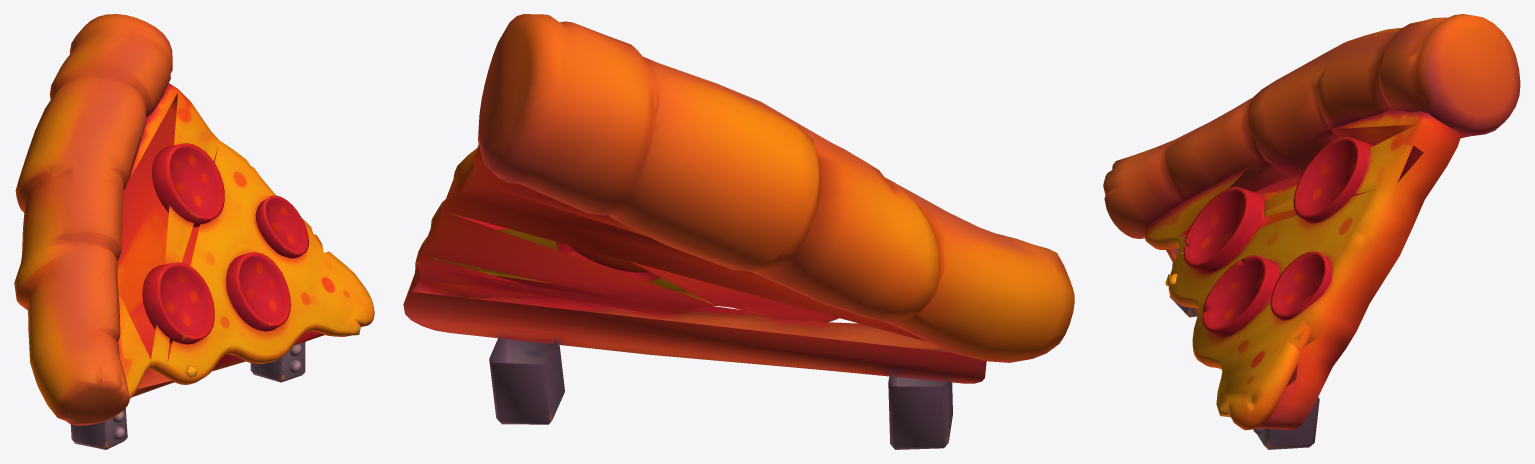
Rendered from bahia-pizza-slice.glb.
The picture shows the model from 3 angles, left to right: view 1: azimuth 30°, elevation 25°; view 2: azimuth 150°, elevation 25°; view 3: azimuth 270°, elevation 25°; orthographic projection. The views are drawn at different scales.
Visible parts, largest first — view 1: tripo_node_c8388307-ceb7-42e8-bd4d-acf7e119b7c0; view 2: tripo_node_c8388307-ceb7-42e8-bd4d-acf7e119b7c0; view 3: tripo_node_c8388307-ceb7-42e8-bd4d-acf7e119b7c0.
Boxes of the visible parts, x1,y1,x2,y2 form: tripo_node_c8388307-ceb7-42e8-bd4d-acf7e119b7c0: [14, 14, 374, 449]; tripo_node_c8388307-ceb7-42e8-bd4d-acf7e119b7c0: [403, 14, 1074, 449]; tripo_node_c8388307-ceb7-42e8-bd4d-acf7e119b7c0: [1103, 14, 1520, 449].
Bounding box in the file's own units: 0.9995 × 0.854 × 0.8511.
1 material, 1 textured.
